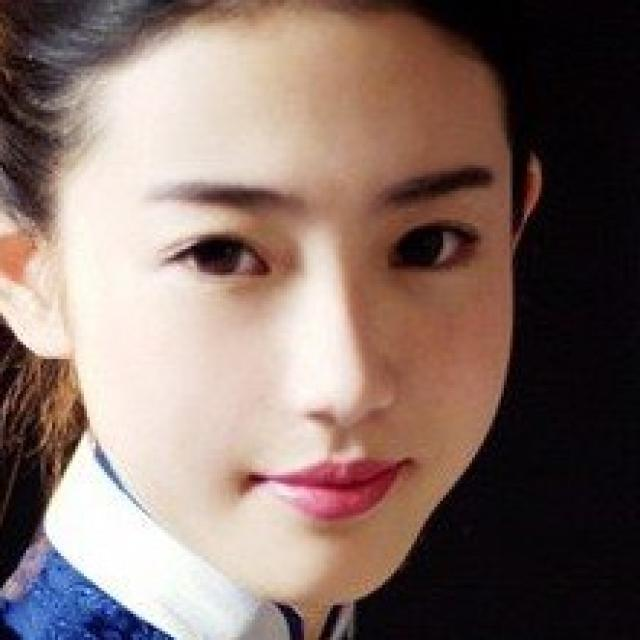Normal: (56, 3, 516, 605)
